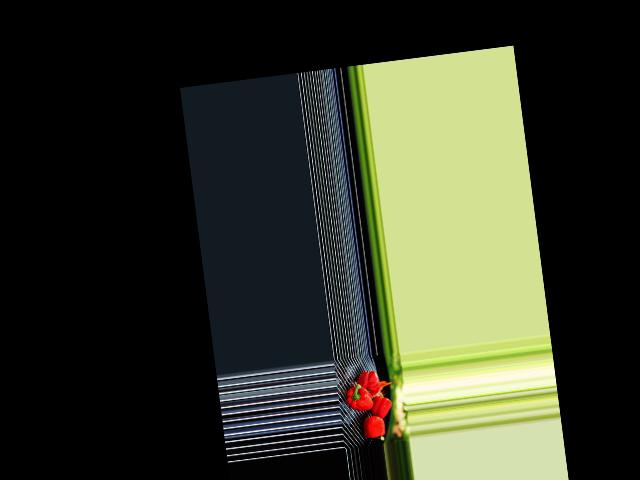bell_pepper: (357, 369, 382, 397)
